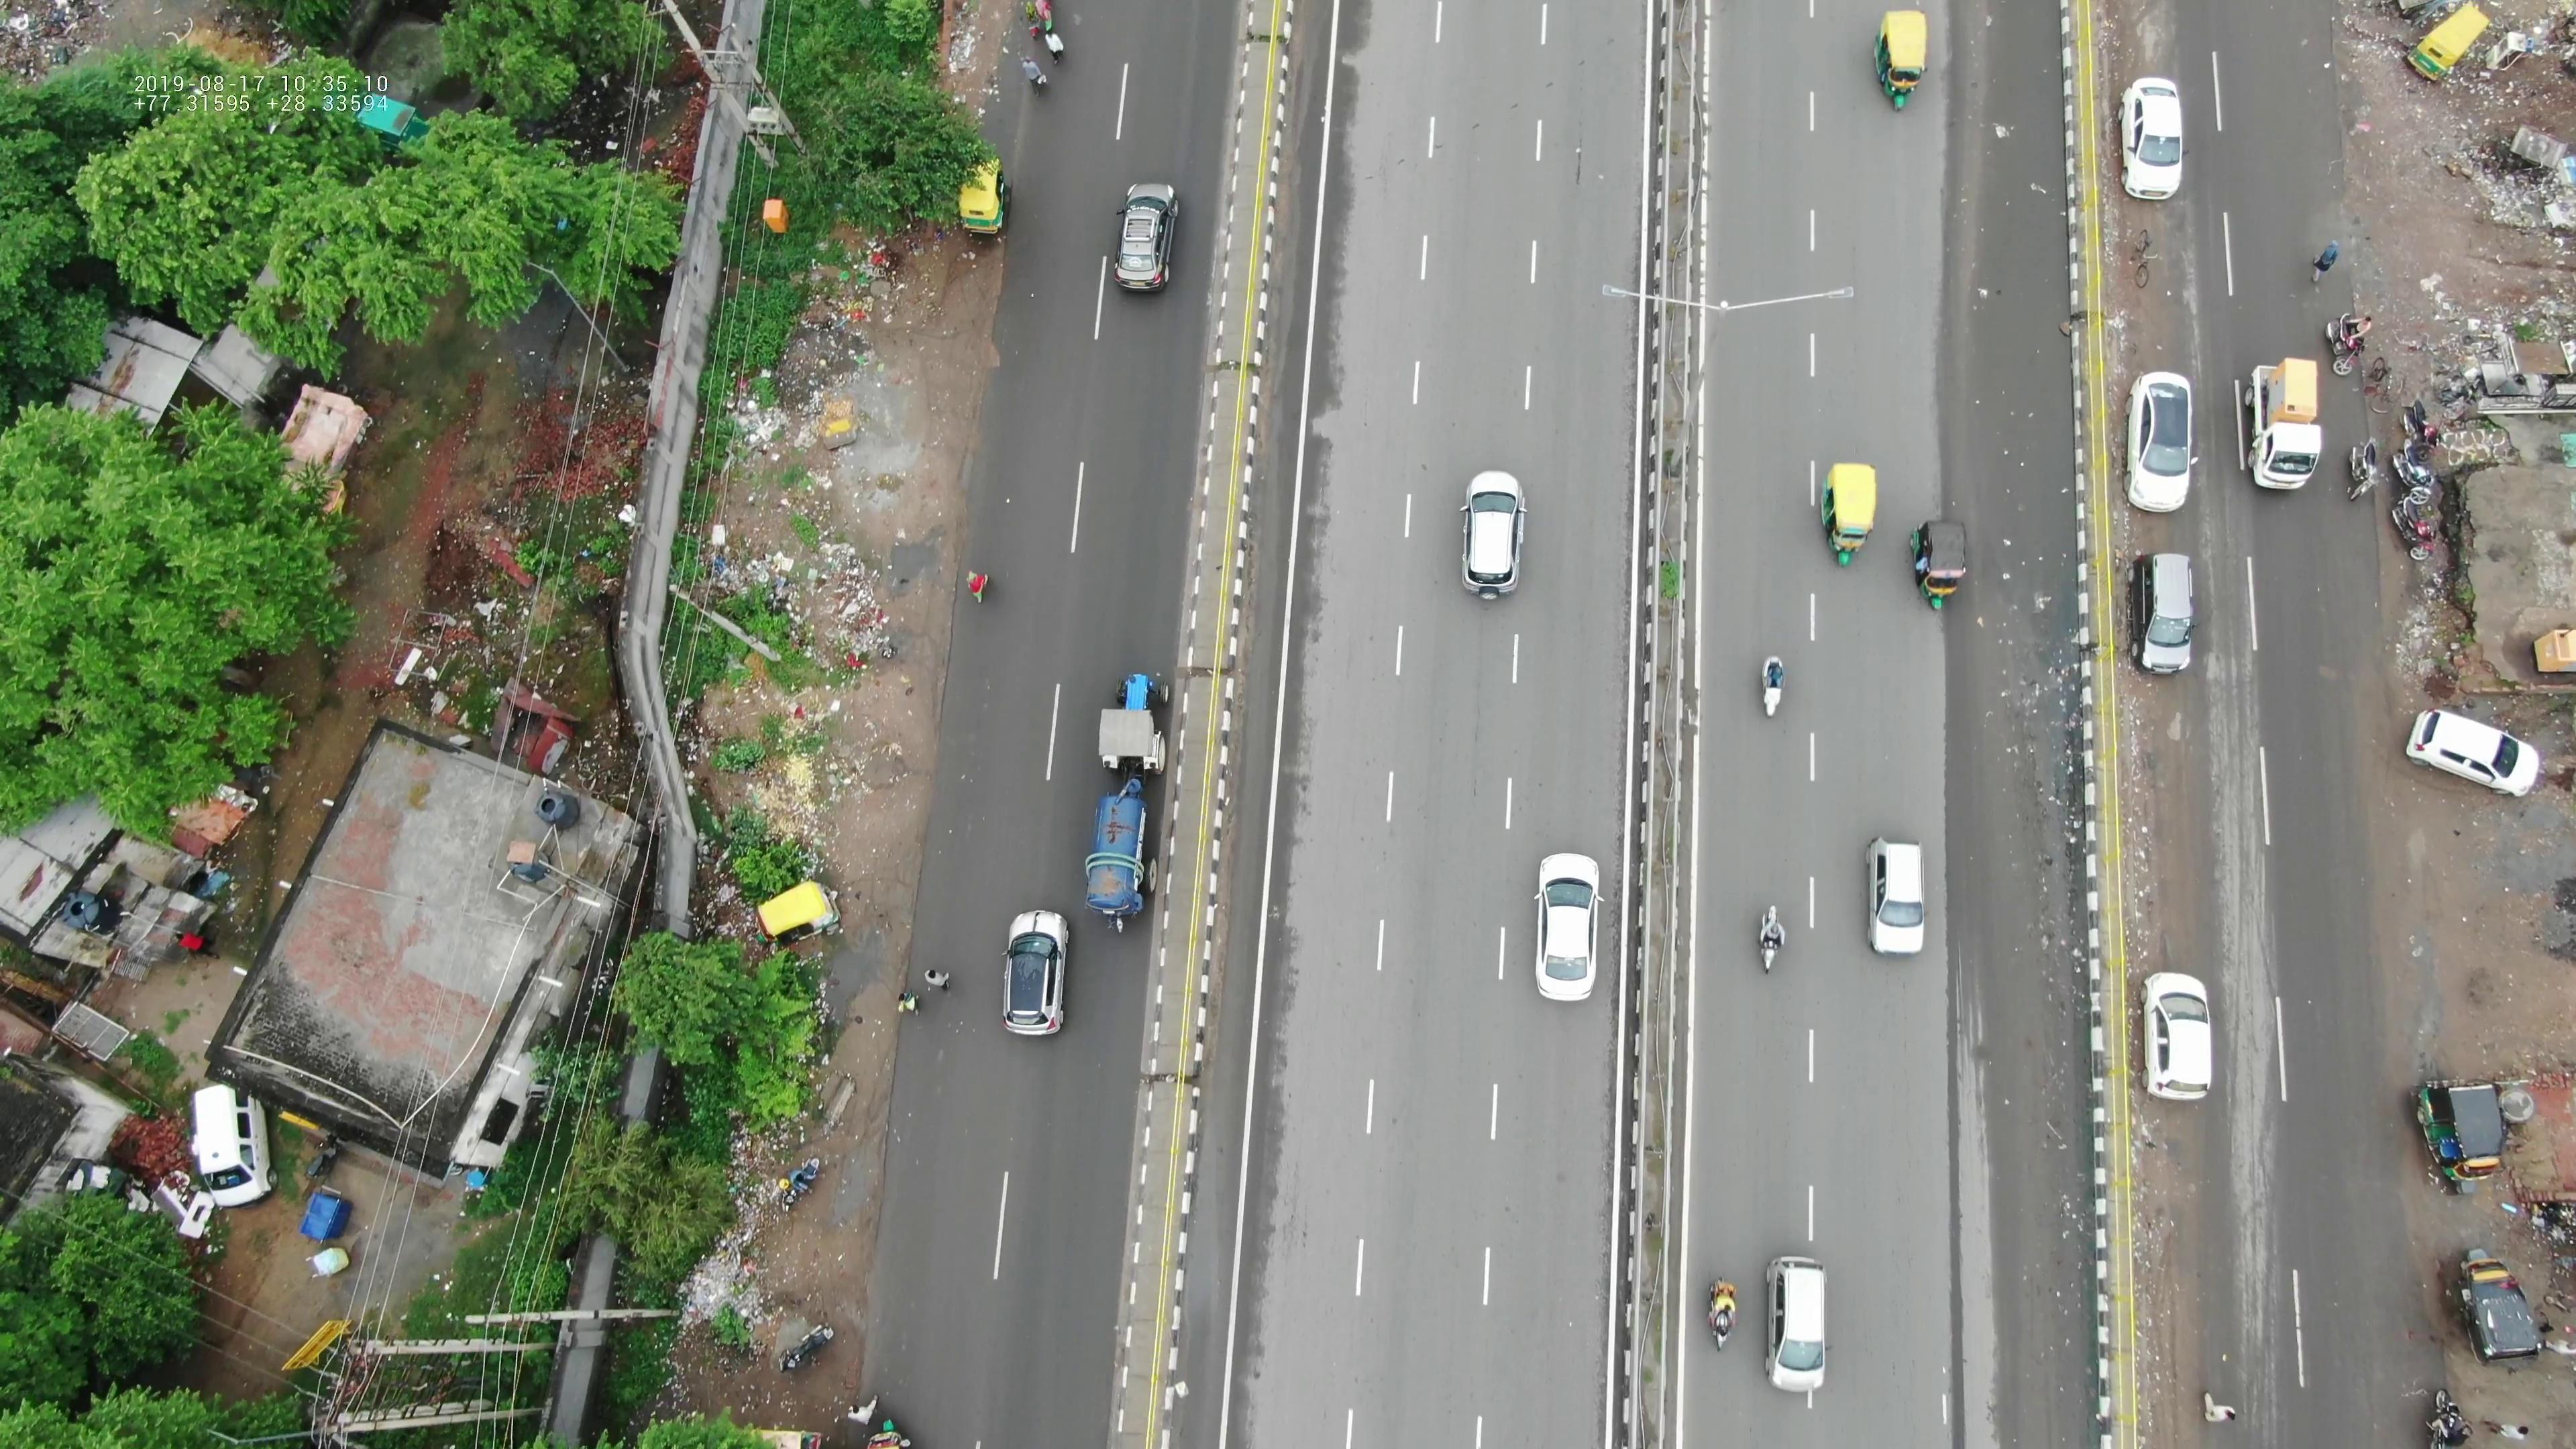Muddy_road: (2120, 683, 2204, 973), (2135, 1196, 2206, 1444)
Waterlogging: (1985, 161, 2082, 621), (1987, 642, 2089, 977)
